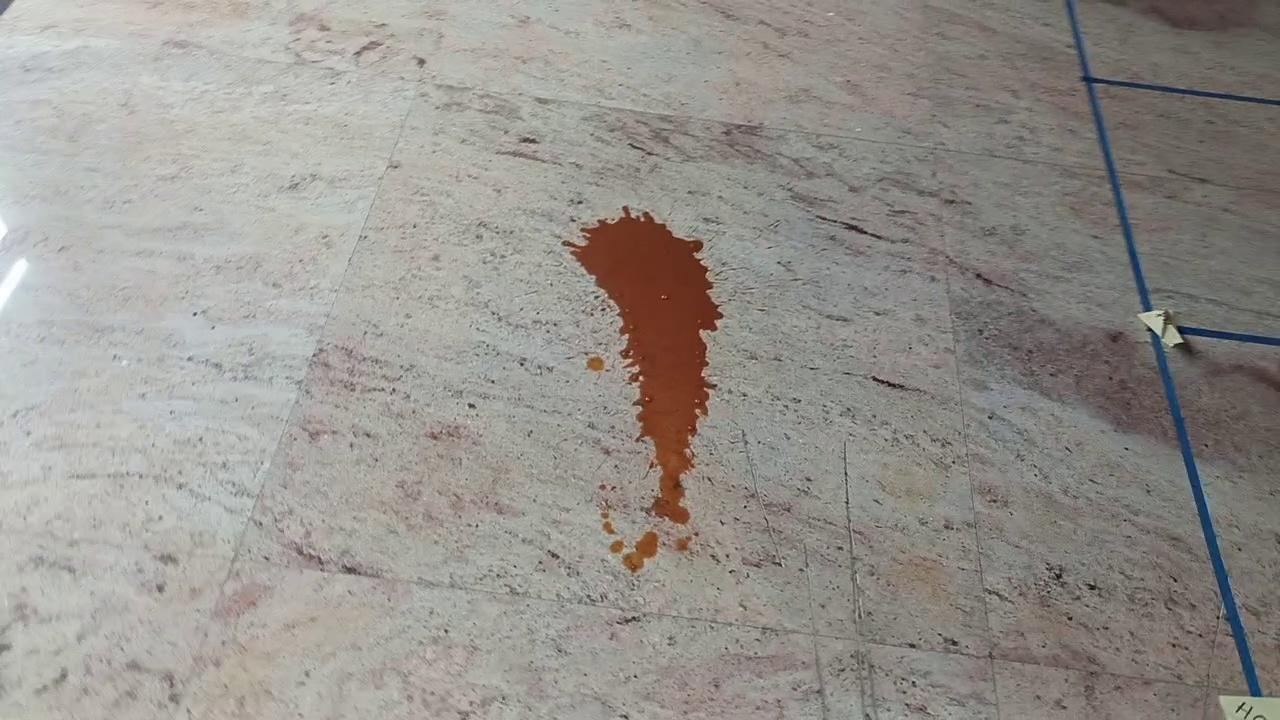dirty_floor: (566, 205, 733, 576)
